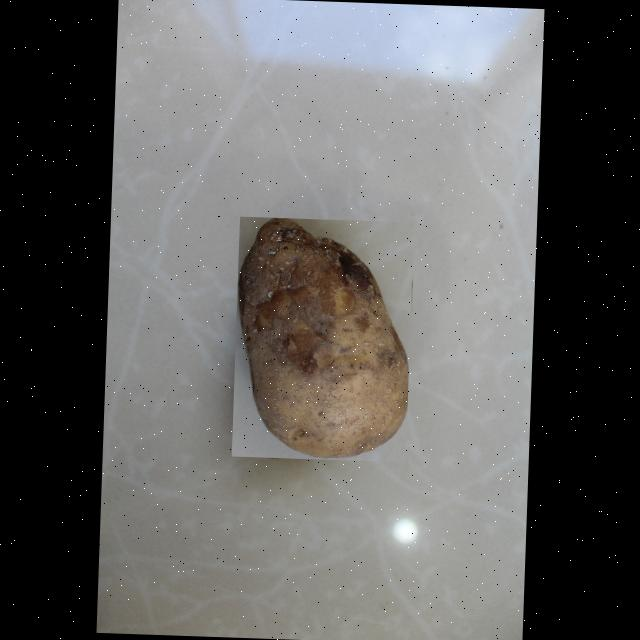Diseased-fungal potato: (232, 215, 414, 461)
